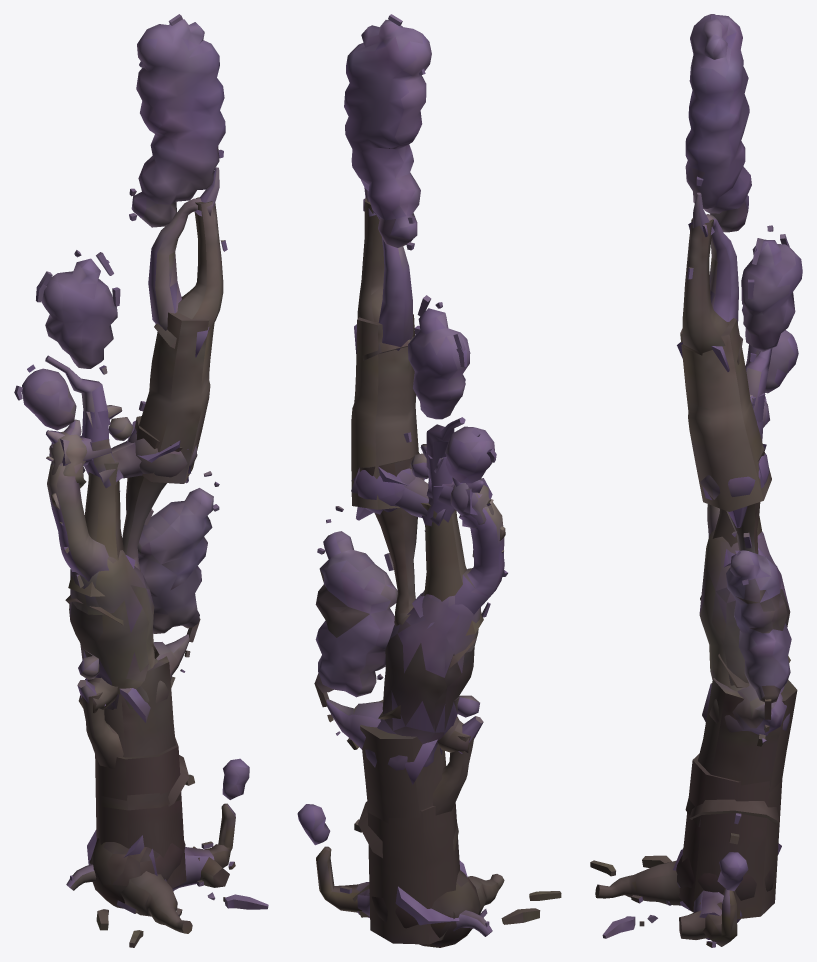
Rendered from cuttlepop.glb.
3 views of the same model, side by side, from view 1: azimuth 30°, elevation 25°; view 2: azimuth 150°, elevation 25°; view 3: azimuth 270°, elevation 25° (orthographic). The views are drawn at different scales.
Visible parts, largest first — view 1: body; view 2: body; view 3: body.
Part boxes in pixels (x1,y1,x2,y2): body: [14, 14, 268, 947]; body: [297, 14, 561, 947]; body: [590, 14, 802, 947].
Bounding box in the file's own units: 1.4 × 5.6 × 1.17.
1 material, 1 textured.
